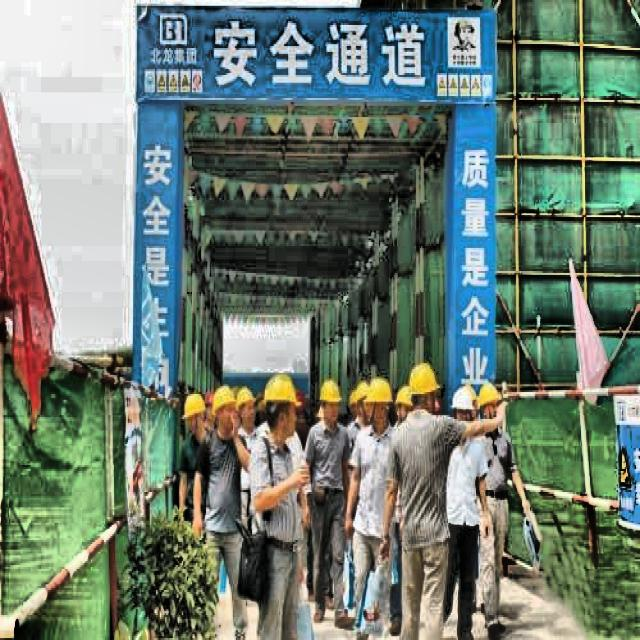helmet: (262, 371, 301, 442), (404, 361, 440, 419), (472, 375, 504, 436), (447, 383, 476, 438), (363, 374, 393, 426), (180, 392, 208, 444), (317, 373, 343, 428), (210, 381, 235, 438), (393, 380, 416, 434), (237, 382, 256, 432), (354, 378, 372, 422)
